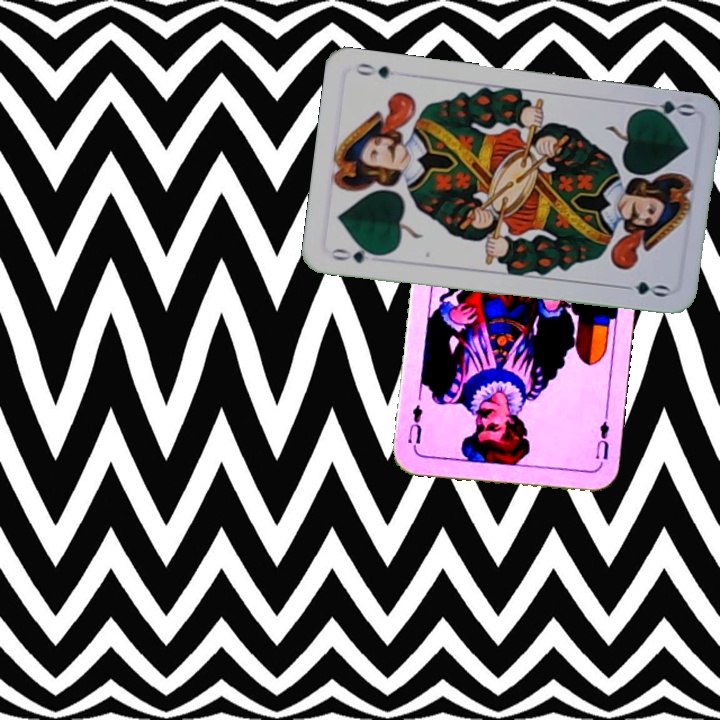EU: (591, 410, 612, 462)
GO: (637, 96, 697, 122), (327, 242, 386, 266)
